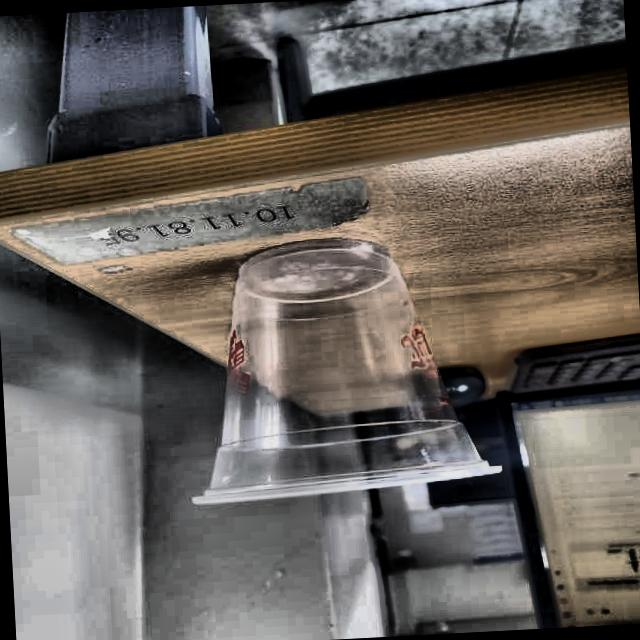plastic cup: (175, 232, 504, 506)
